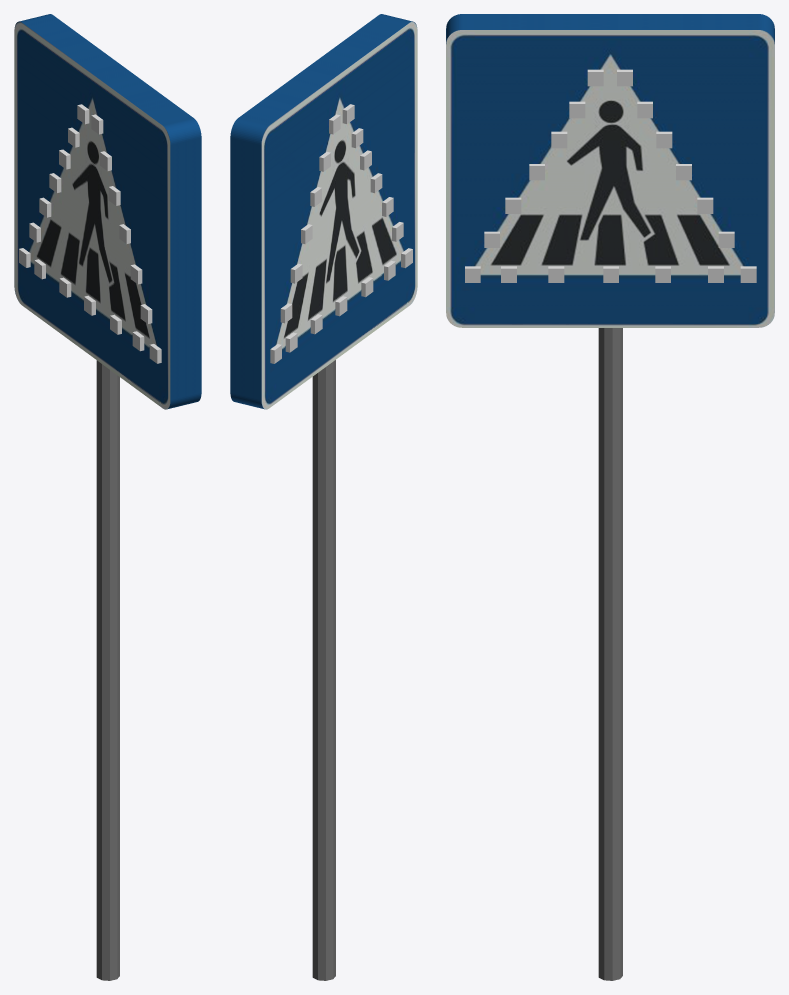
The model's file is verkeersbord.fbx.
The picture shows the model from 3 angles, left to right: view 1: azimuth 30°, elevation 25°; view 2: azimuth 150°, elevation 25°; view 3: azimuth 270°, elevation 25°; orthographic projection. The views are drawn at different scales.
Parts seen in each view (by area): view 1: bord, staaf; view 2: bord, staaf; view 3: bord, staaf.
Boxes of the visible parts, x1,y1,x2,y2 form: bord: (14,14,201,409); staaf: (96,360,119,980); bord: (230,14,417,409); staaf: (312,360,335,980); bord: (446,14,774,327); staaf: (598,328,622,980).
Bounding box in the file's own units: 35.48 × 776 × 242.
